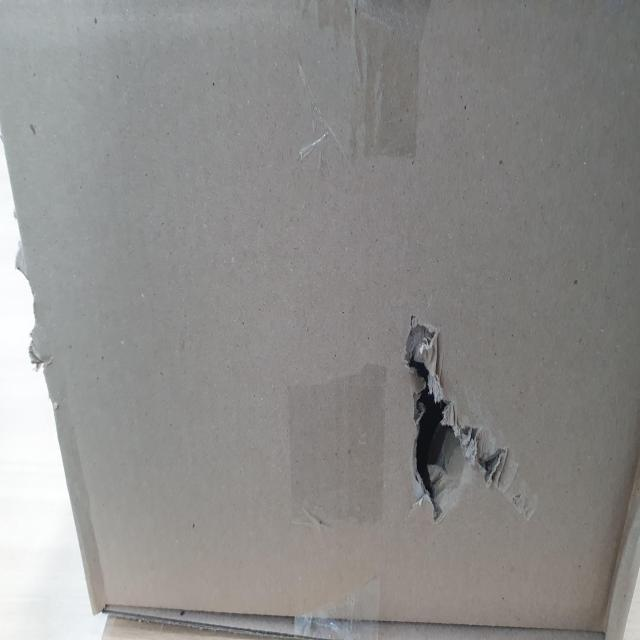damaged: (398, 318, 520, 526)
